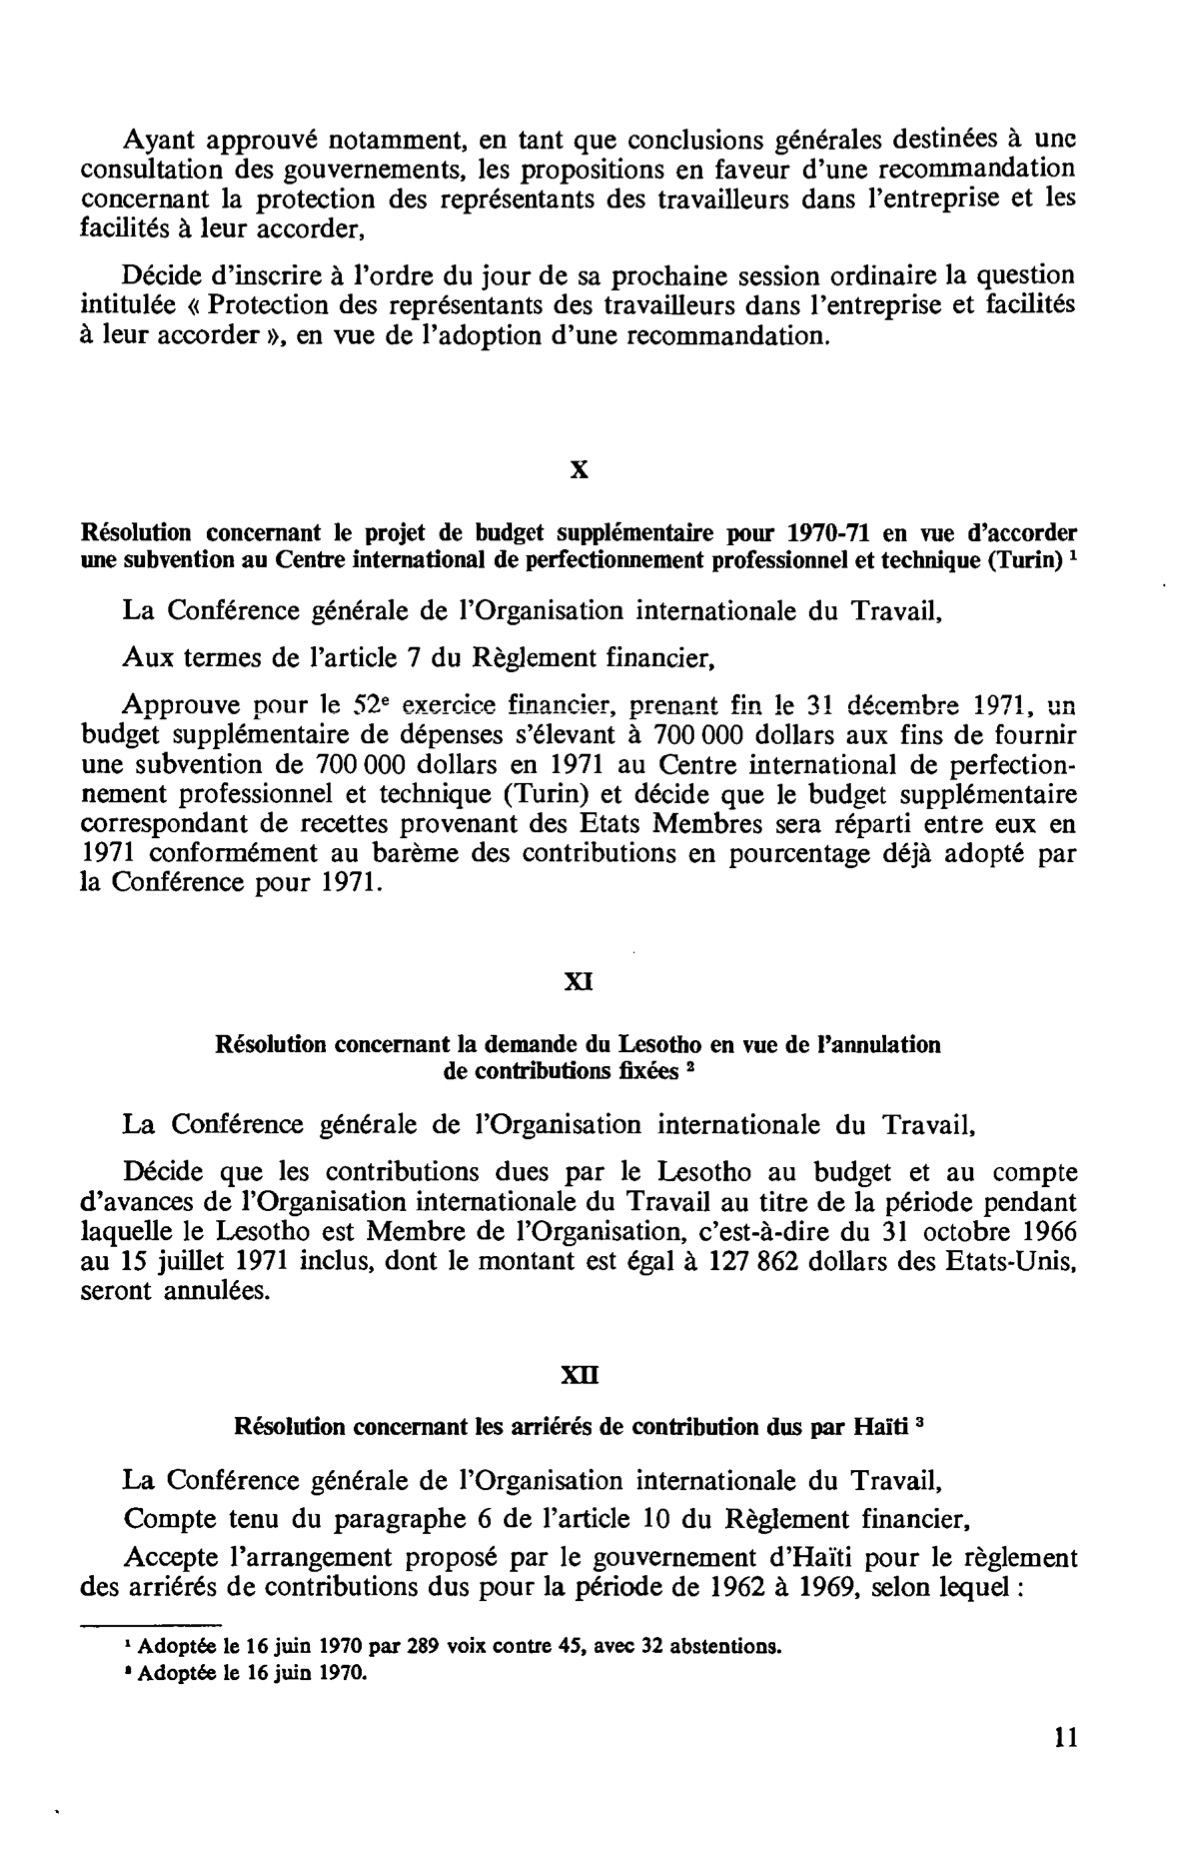MainZone-Head: (206, 1022, 954, 1089), (226, 1406, 936, 1443), (545, 1354, 613, 1392), (550, 965, 604, 999), (559, 447, 599, 491)
MainZone-P: (75, 685, 1089, 902), (72, 1151, 1090, 1317), (71, 118, 1087, 247), (71, 255, 1087, 363), (72, 510, 1084, 585), (82, 1536, 1098, 1607), (71, 1101, 1078, 1147), (67, 590, 948, 630), (115, 1502, 979, 1536), (110, 1466, 949, 1500), (74, 637, 730, 676)
MarginTextZone-Notes: (111, 1630, 787, 1660), (111, 1658, 375, 1690)
NumberingZone: (1042, 1714, 1089, 1763)
